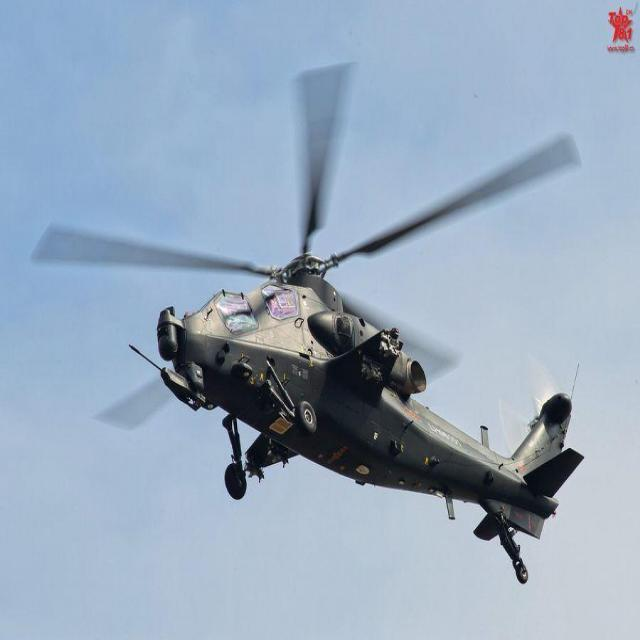MIL_HELO: (32, 24, 620, 594)
